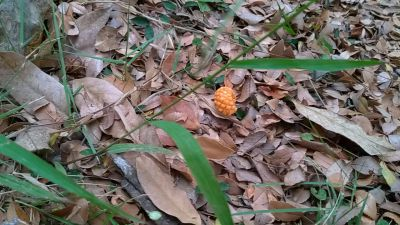eggs: (210, 84, 239, 118)
